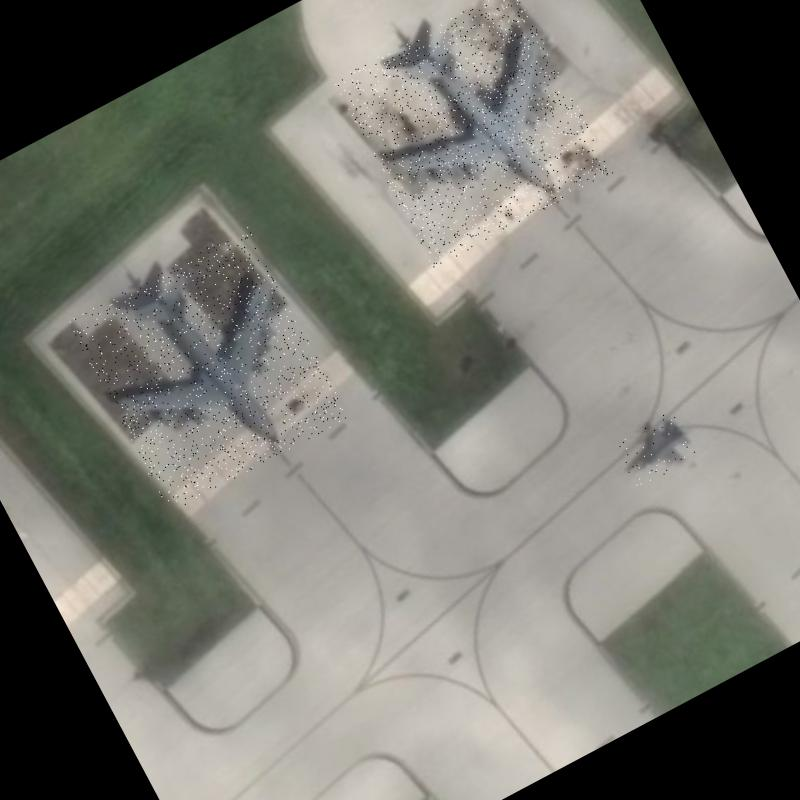A14: (67, 226, 349, 512), (333, 0, 613, 268)
A5: (611, 408, 700, 489)
